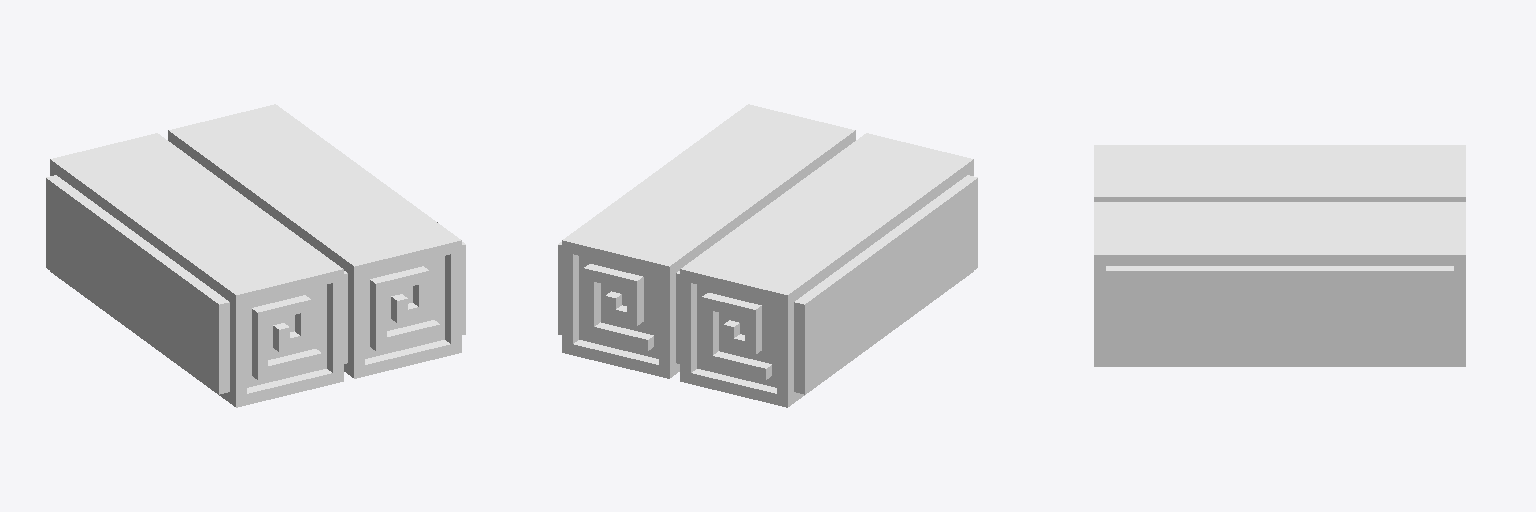
File: piramide-plat-twos-v01.obj
The picture shows the model from 3 angles: view 1: azimuth 30°, elevation 25°; view 2: azimuth 150°, elevation 25°; view 3: azimuth 270°, elevation 25°; orthographic projection.
Parts seen in each view (by area): view 1: object 1; view 2: object 1; view 3: object 1.
Part boxes in pixels (left/top/right/bottom): object 1: left=46, top=104, right=465, bottom=407; object 1: left=558, top=104, right=977, bottom=407; object 1: left=1094, top=145, right=1465, bottom=366.
Bounding box in the file's own units: 2.3 × 1 × 3.